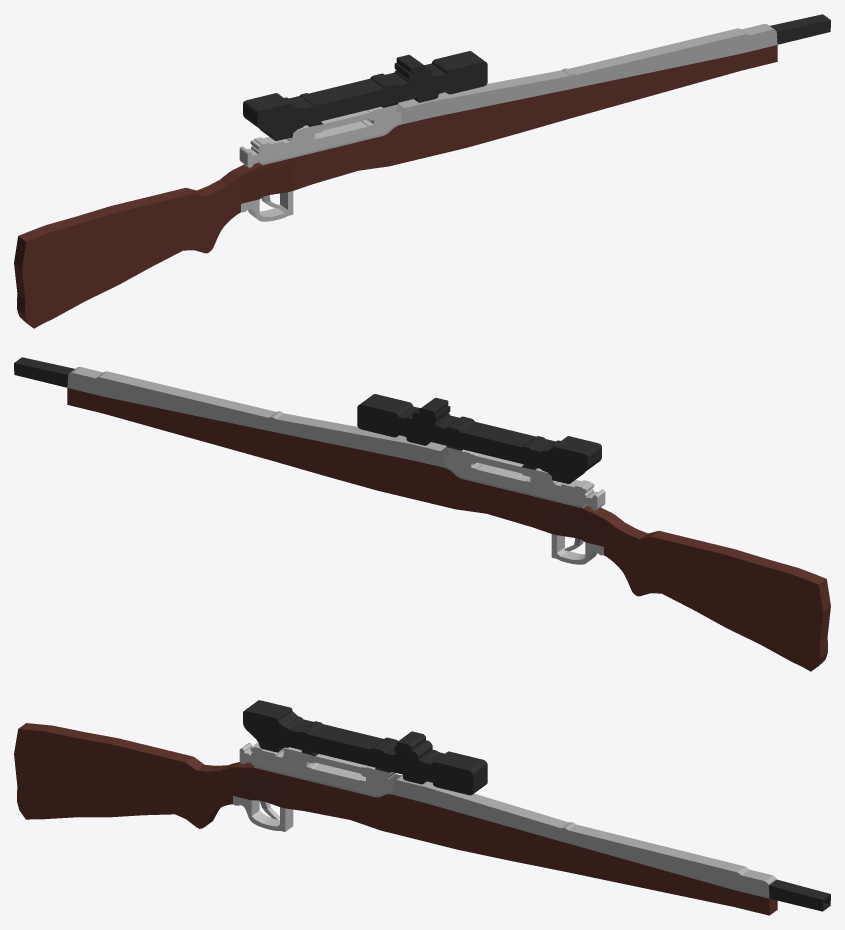
The model's file is RifleYesScope.fbx.
3 renders of one model, top to bottom at view 1: azimuth 30°, elevation 25°; view 2: azimuth 150°, elevation 25°; view 3: azimuth 330°, elevation 25°, orthographic.
Parts seen in each view (by area): view 1: Rifle; view 2: Rifle; view 3: Rifle.
Boxes of the visible parts, box(x1,y1,x2,y2) form: Rifle: box(14, 14, 830, 328); Rifle: box(14, 357, 830, 671); Rifle: box(14, 700, 830, 915).
Size of the model in its own units: 486 by 98.56 by 15.12.
